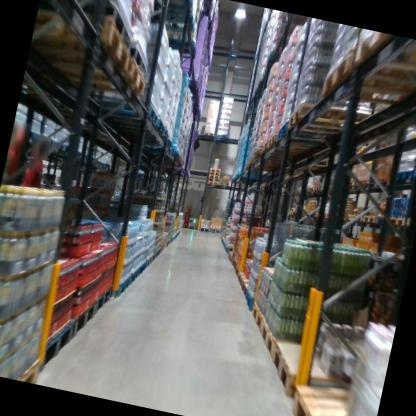pallet: (34, 33, 162, 110), (31, 0, 137, 75), (317, 42, 416, 116), (266, 336, 358, 405), (344, 28, 416, 82), (287, 97, 364, 143), (289, 374, 363, 416), (29, 314, 77, 376), (85, 92, 161, 129), (274, 118, 341, 155), (105, 110, 168, 139), (254, 318, 288, 371), (65, 294, 96, 342), (260, 137, 312, 163), (84, 281, 114, 324), (244, 298, 270, 344), (267, 131, 314, 156), (18, 354, 47, 383), (252, 145, 292, 166), (240, 284, 266, 315), (130, 124, 169, 144), (234, 267, 262, 291), (110, 270, 132, 298), (393, 159, 416, 182), (387, 211, 407, 231), (367, 171, 388, 190), (124, 264, 140, 287), (238, 277, 255, 297), (374, 212, 390, 228), (360, 213, 376, 229), (347, 174, 362, 191), (134, 259, 148, 276), (349, 210, 362, 224), (218, 177, 231, 190), (214, 131, 228, 142), (143, 253, 153, 268), (147, 249, 157, 264), (230, 256, 239, 272), (196, 223, 211, 232), (314, 210, 326, 221), (209, 164, 222, 173), (201, 132, 215, 140), (153, 245, 161, 259), (233, 265, 241, 279), (299, 209, 309, 220), (311, 183, 321, 193), (208, 170, 221, 177), (305, 184, 314, 194), (291, 208, 301, 217), (206, 181, 218, 188), (207, 177, 219, 184), (207, 174, 220, 180), (295, 187, 304, 195), (287, 203, 295, 212), (207, 227, 219, 233), (228, 253, 234, 265), (286, 210, 294, 218)
